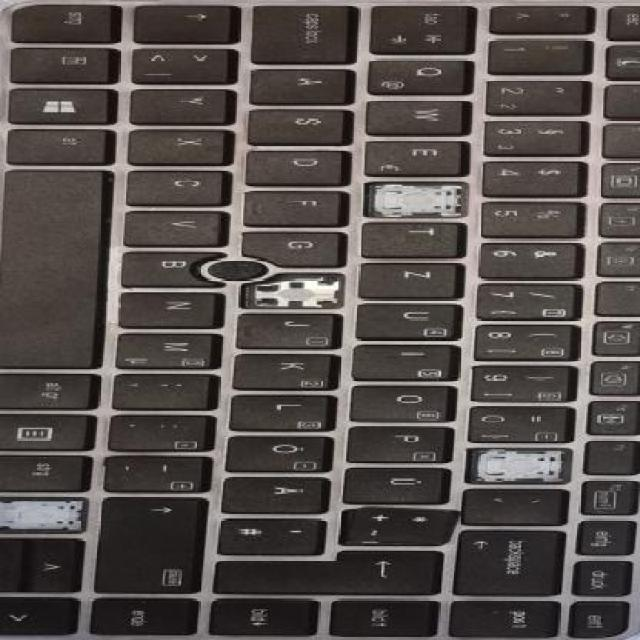Keyboard problems: (235, 262, 349, 313), (460, 439, 573, 489), (358, 174, 472, 222), (1, 491, 93, 542)
